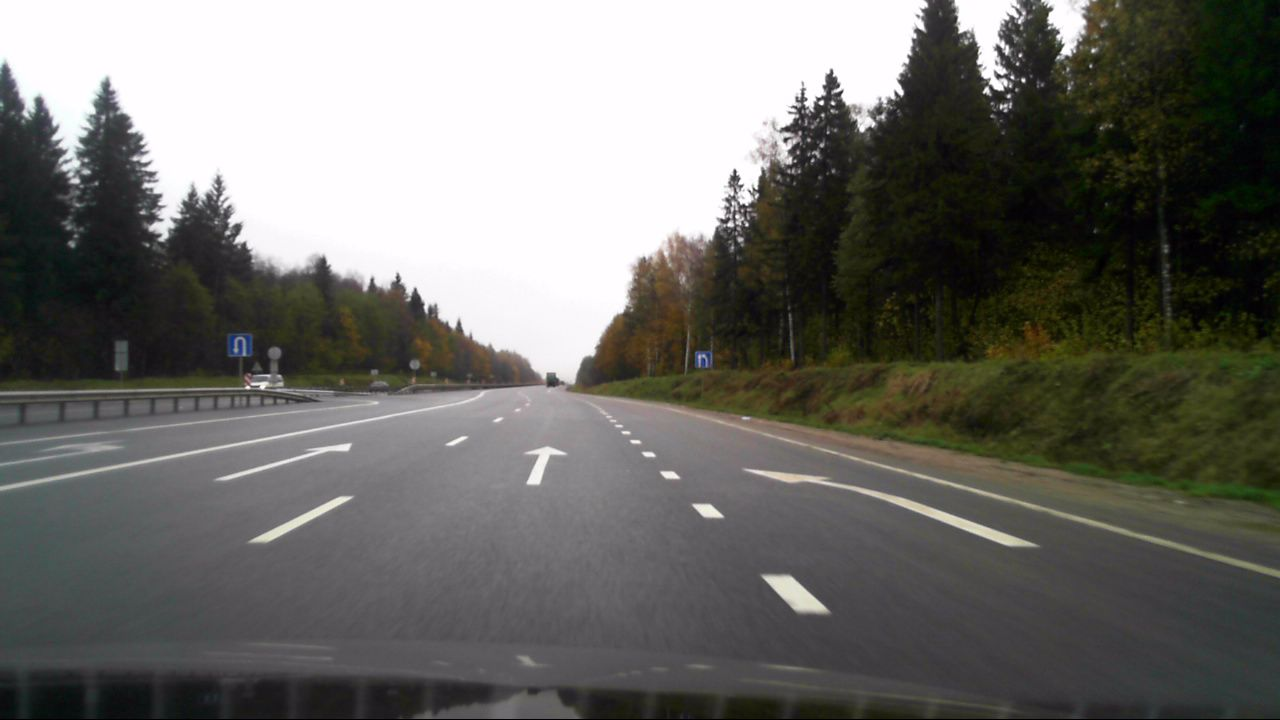U-turn: (229, 334, 251, 357)
